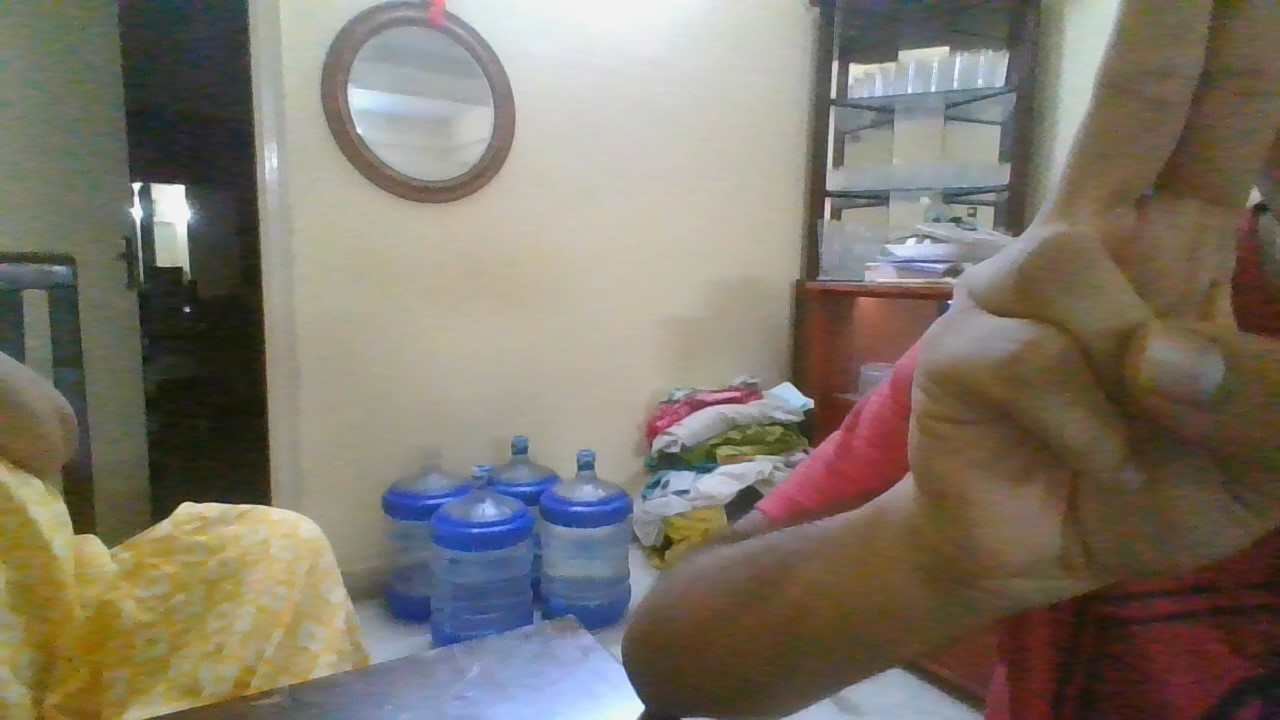u: (906, 2, 1280, 606)
